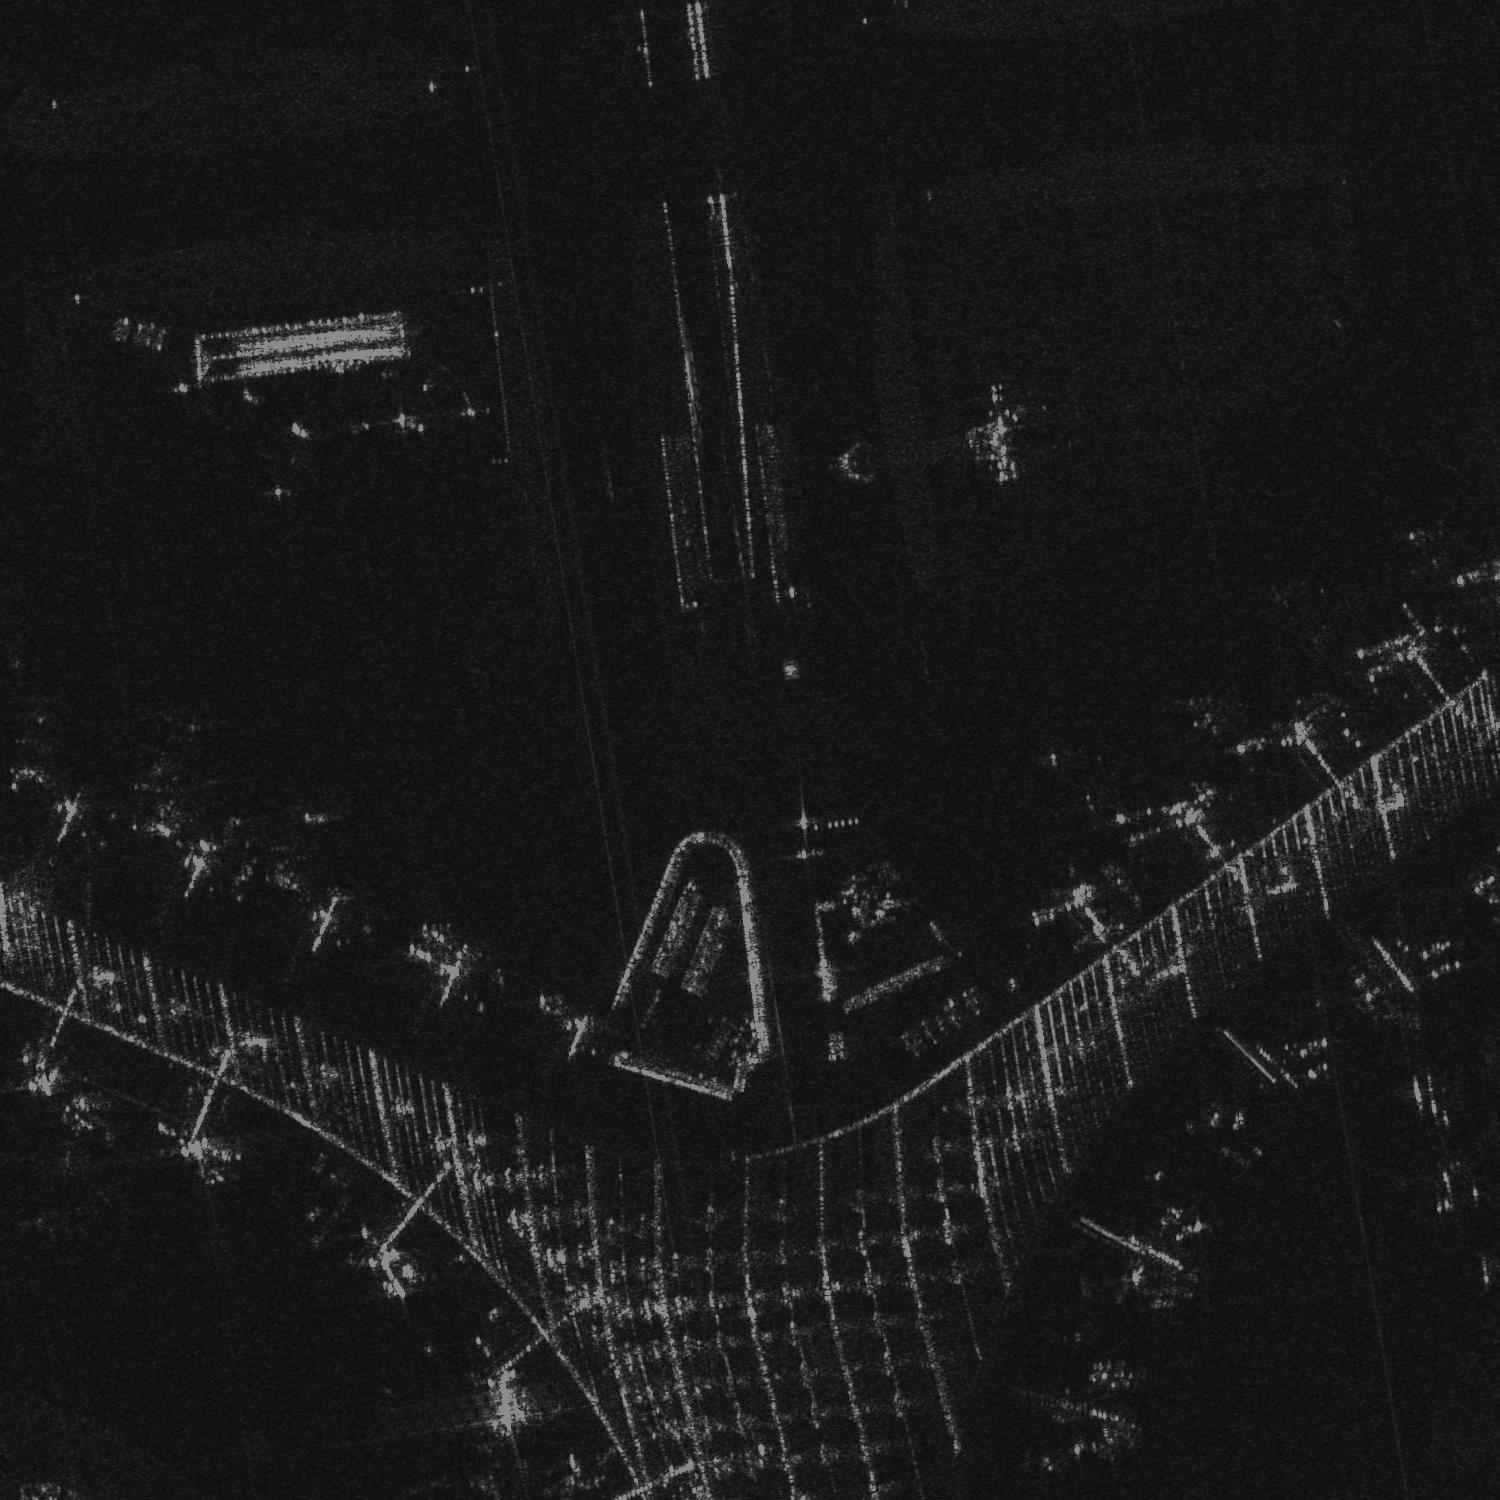A220: (1408, 527, 1462, 571)
other: (4, 1132, 117, 1234)
